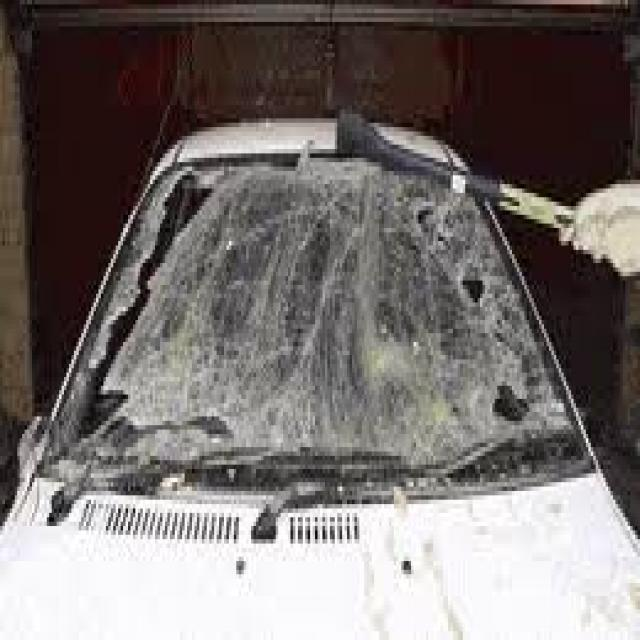moderate: (50, 133, 588, 548)
